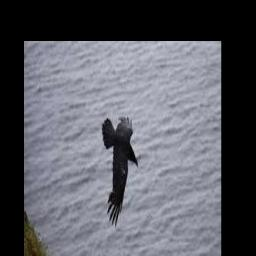Crow: (102, 114, 139, 227)
